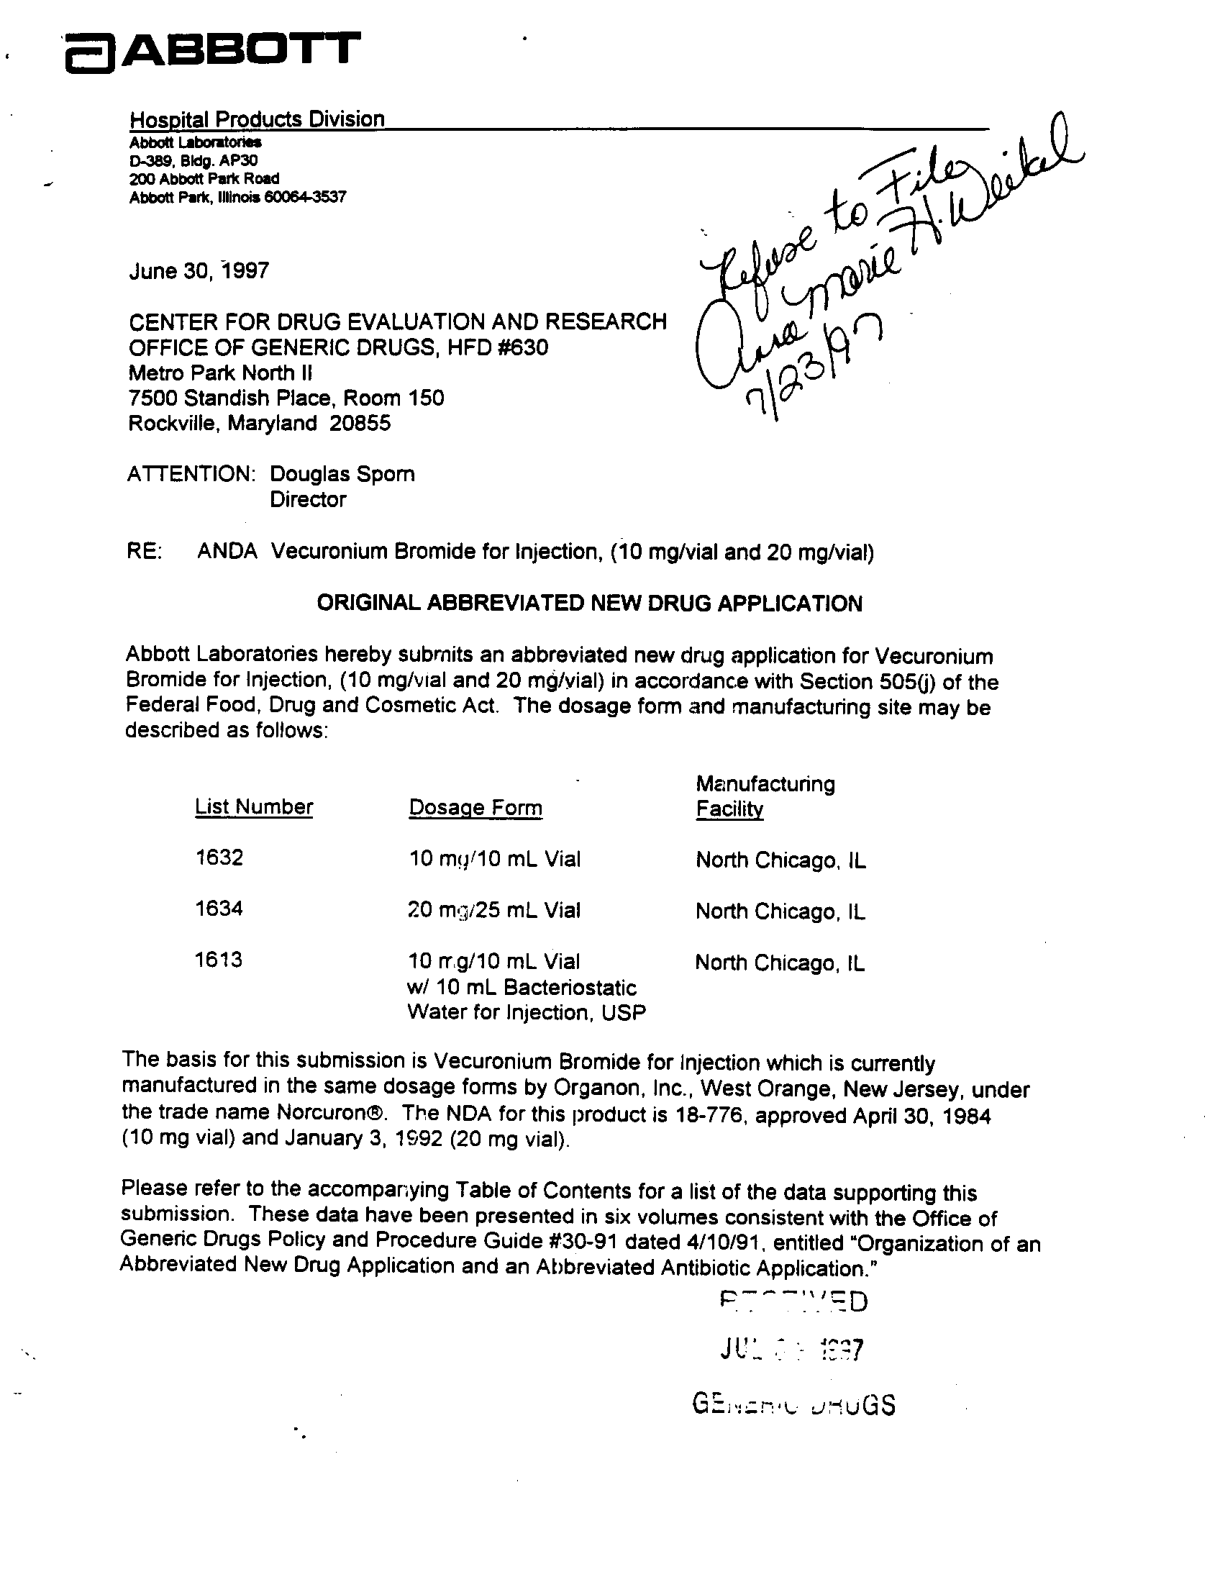nolines: (194, 772, 869, 1023)
